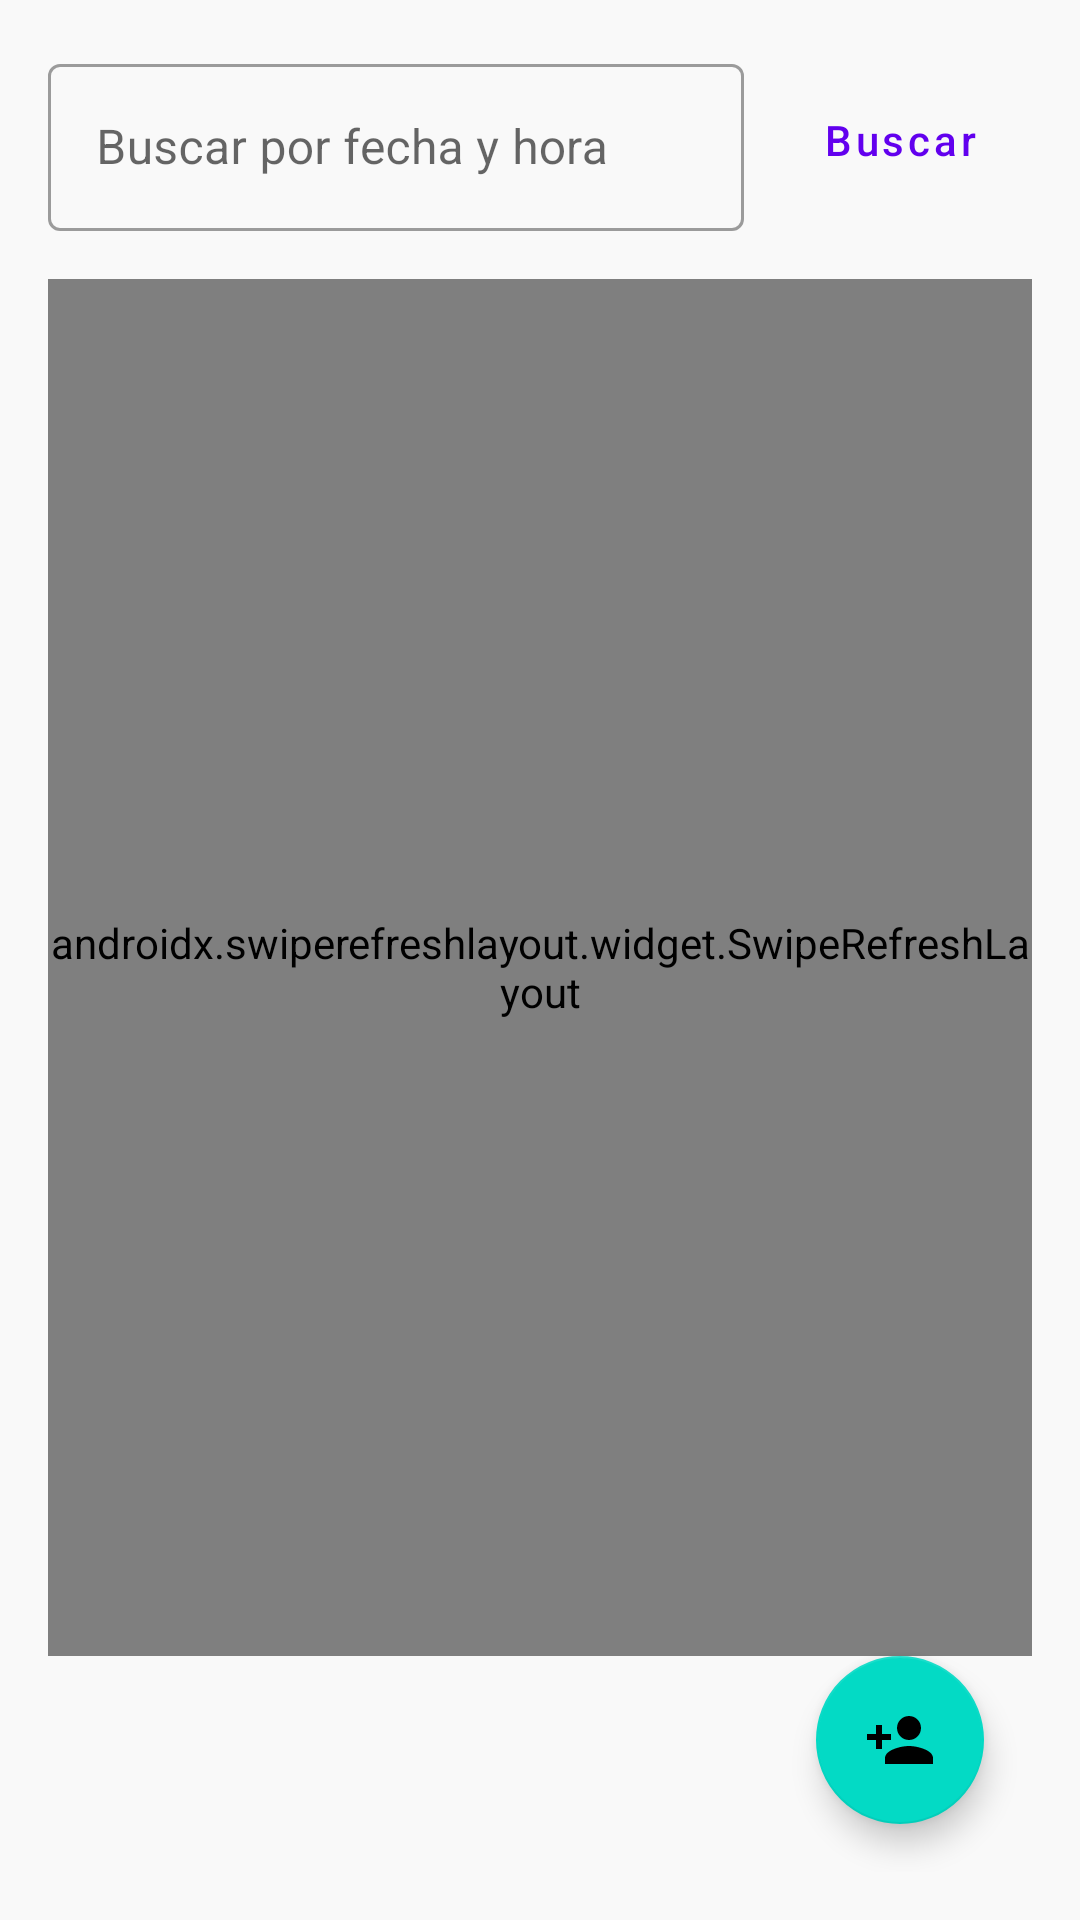

Where to tap for icons on this 1080px×1920px app screen, as [x,y]:
person add: [900,1740]
